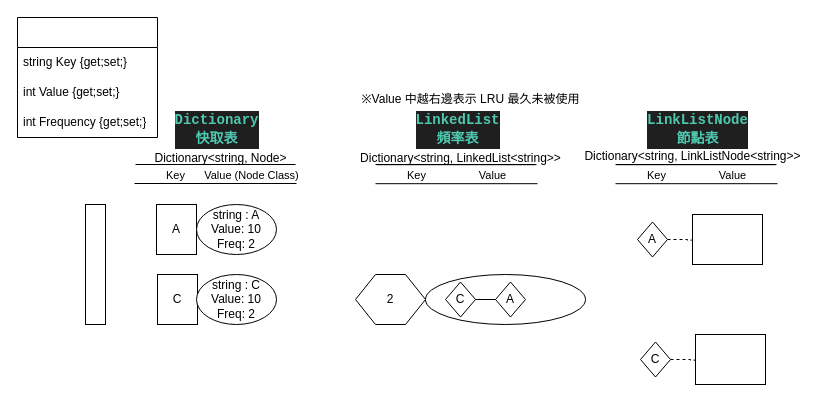
This 830x402 diagram has some shape labels left out. The shapes that lost their labels are listed below. From the top down, each one's box as (x1, y1, x2, y2) in pixels, then its label:
(16, 16, 158, 138): Node Class
(692, 214, 762, 264): Head : A Pre : C Next : Null
(84, 204, 106, 324): 最大上限 2
(694, 334, 766, 384): Head : C Pre : Null Next : A
